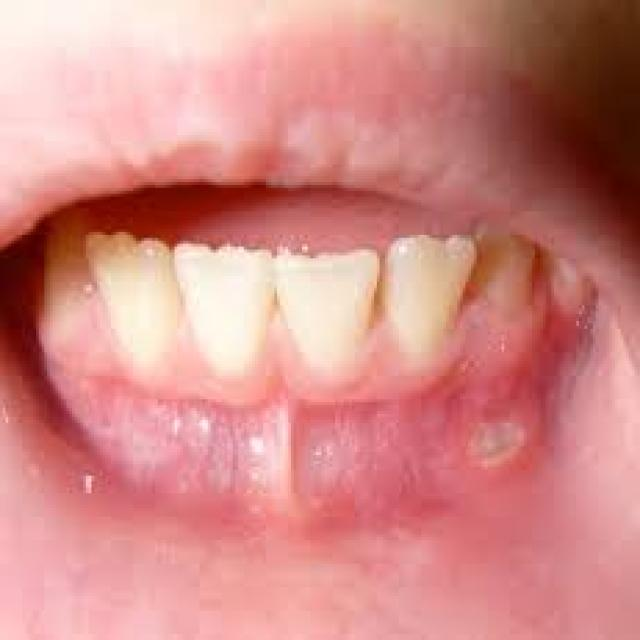processing_area: (0, 281, 605, 575)
ulcer-detection: (422, 345, 575, 513)
